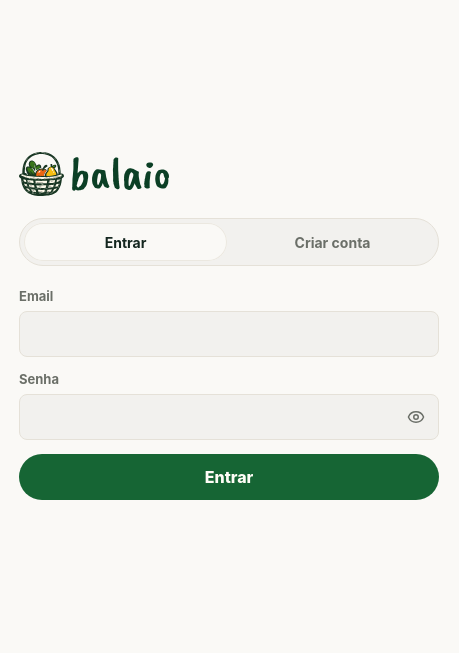
Test: AuthScreen › updates confirm password message while typing
Click the button "Criar conta": (332, 242) [231,224,434,262]
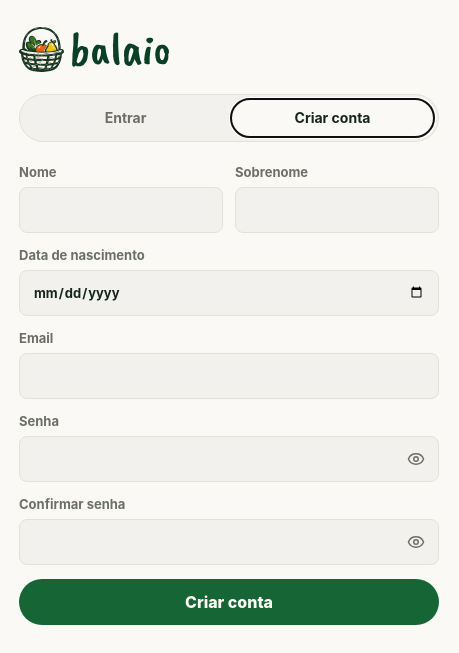
In the password field labelled "Senha": (229, 459) [19,436,439,482], type "senha-segura"
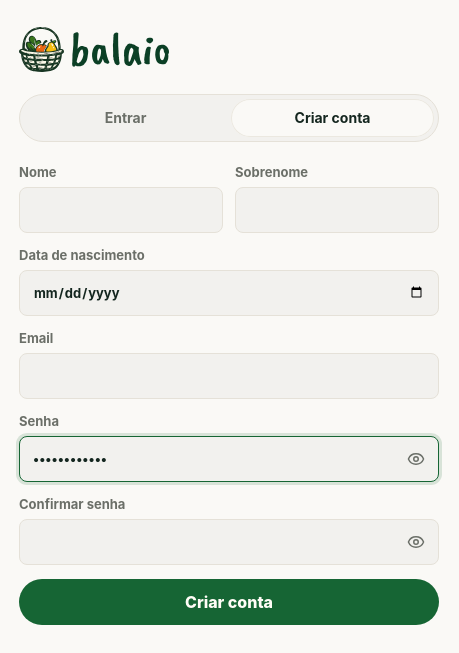
In the password field labelled "Confirmar senha": (229, 542) [19,519,439,565], type "senha-errada"
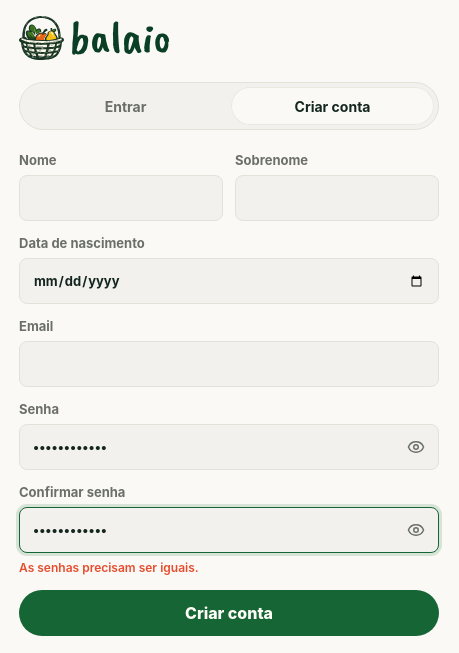
Expected: the text "As senhas precisam ser iguais." is shown, [19,560,199,576]
Clear the password field labelled "Confirmar senha": (229, 530) [19,508,439,554]
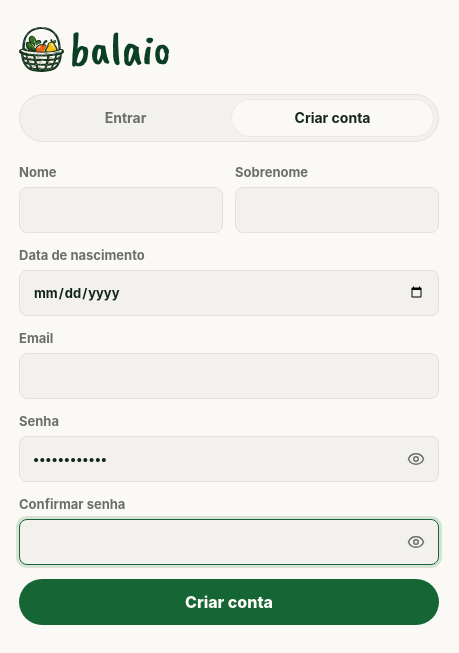
In the password field labelled "Confirmar senha": (229, 542) [19,519,439,565], type "senha-segura"
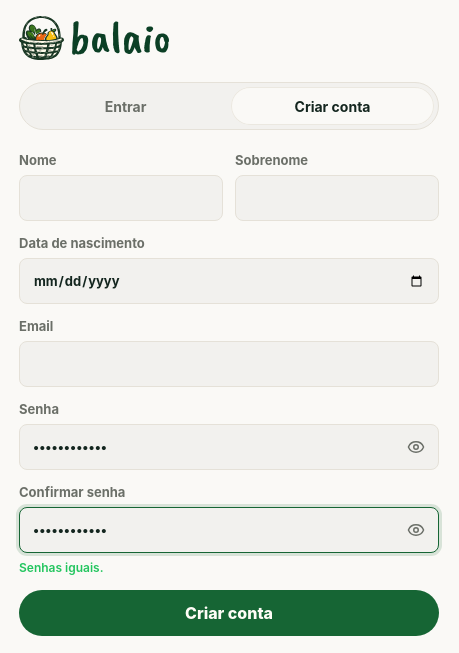
Expected: the text "Senhas iguais." is shown, [19,560,104,576]
